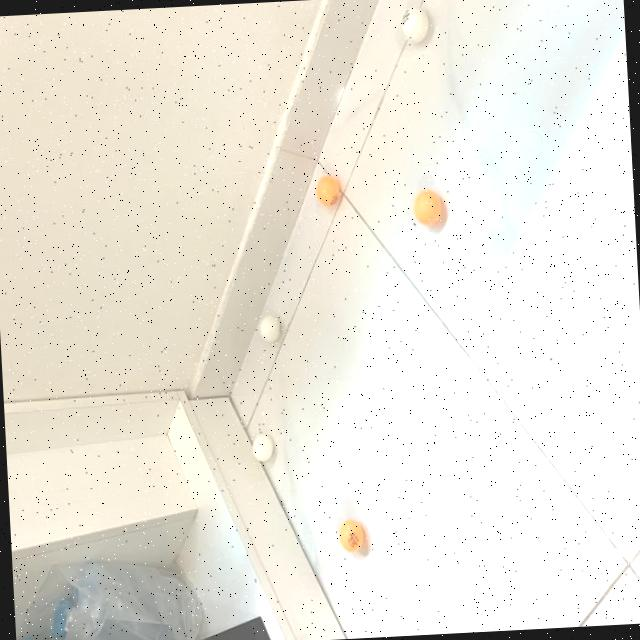ping-pong-ball: (401, 5, 432, 40), (314, 172, 342, 207), (414, 190, 442, 225), (340, 516, 364, 554), (252, 432, 274, 462), (260, 316, 282, 343)
